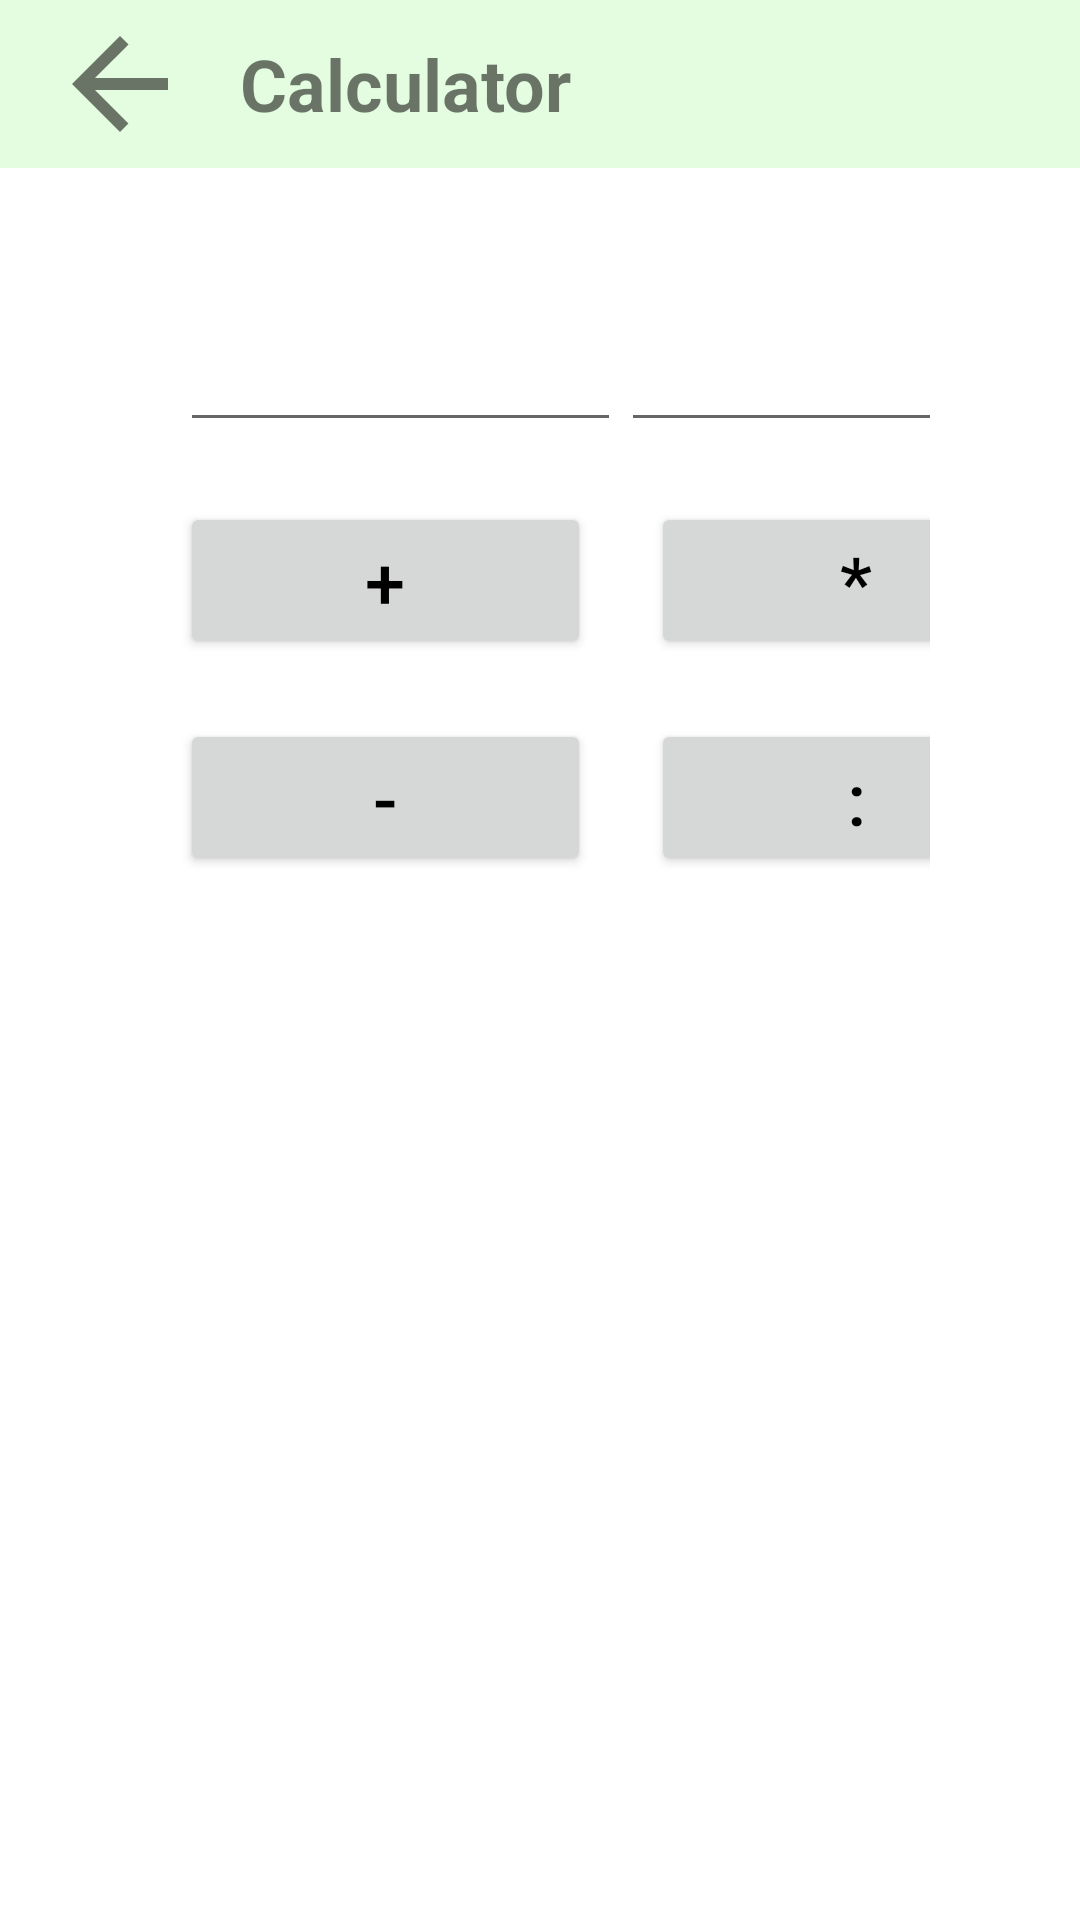

Icon bounding boxes for this 1080px x 1920px phone screenshot, format (x1, y1, x2, y2):
arrow back: (72, 36, 168, 132)
